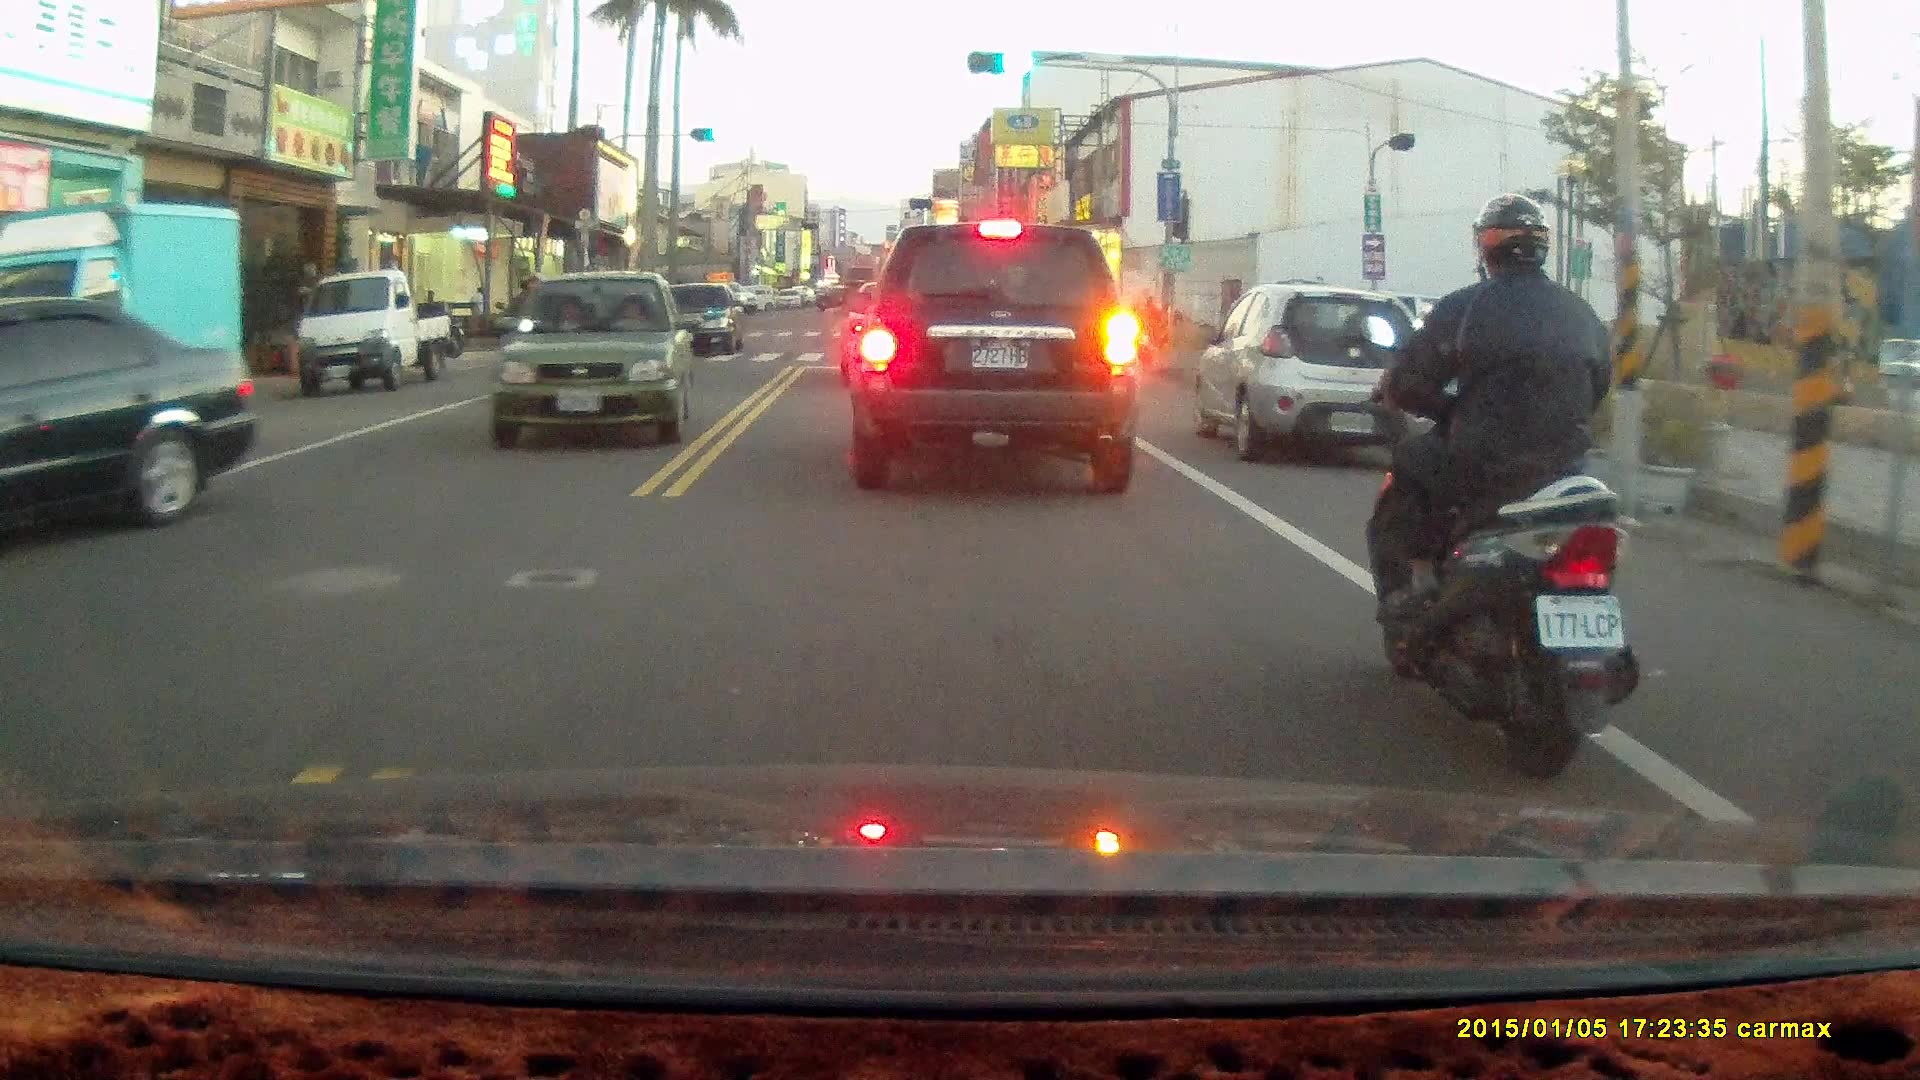rider: (1359, 195, 1642, 787), (1120, 293, 1162, 375)
vehicle: (850, 222, 1143, 497), (1, 294, 259, 554), (6, 199, 248, 418), (1193, 286, 1448, 467), (491, 269, 694, 446), (290, 268, 454, 398), (648, 281, 746, 358)
